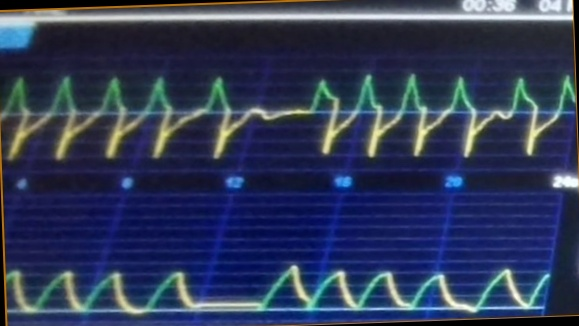Ineffective_effort Flow: (3, 59, 575, 164)
Ineffective_effort Volume: (9, 233, 550, 316)
